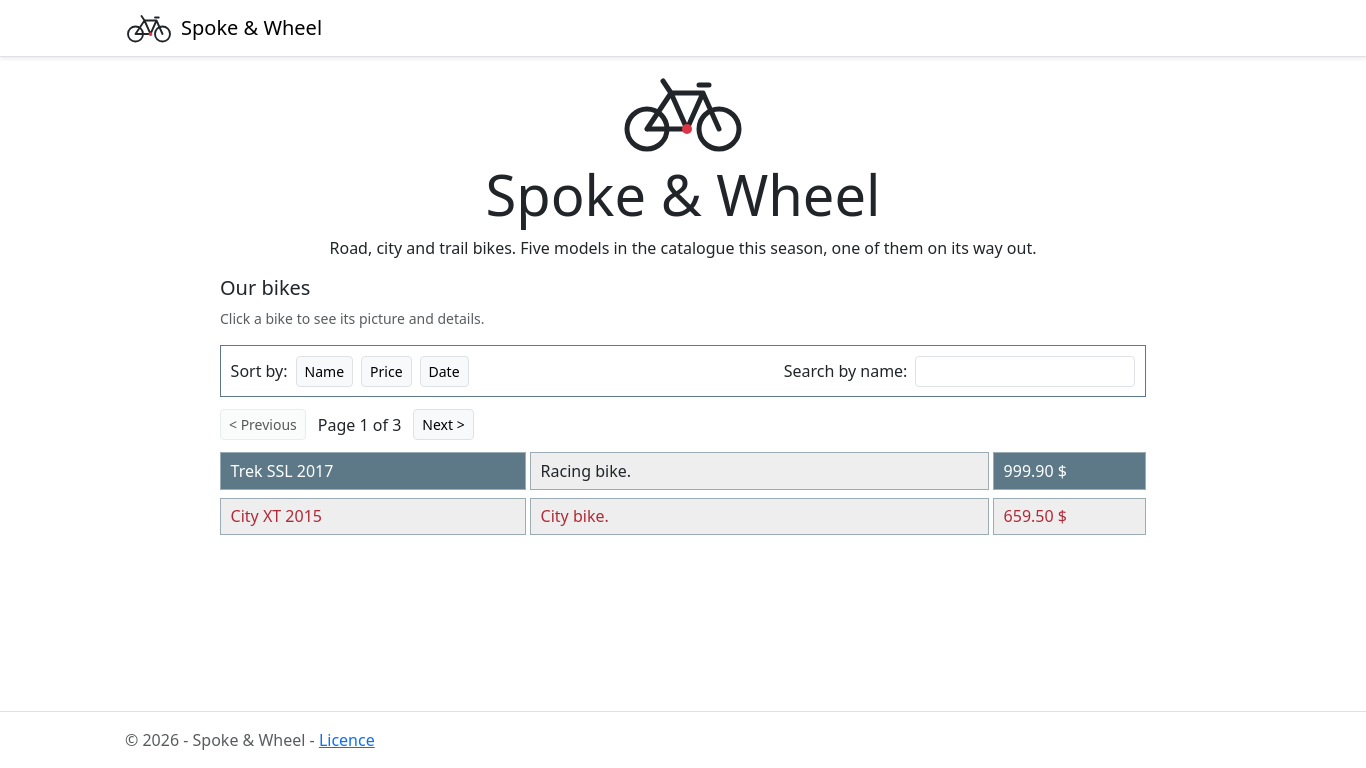
Test: App › hands the catalogue to the list and shows the detail of the bike clicked
Check: the heading "Spoke & Wheel" is shown, box [486,156,880,232]
Step 1. Click the button with test id "product" that starts with "City XT 2015" → point(683, 516), box [220,498,1146,535]
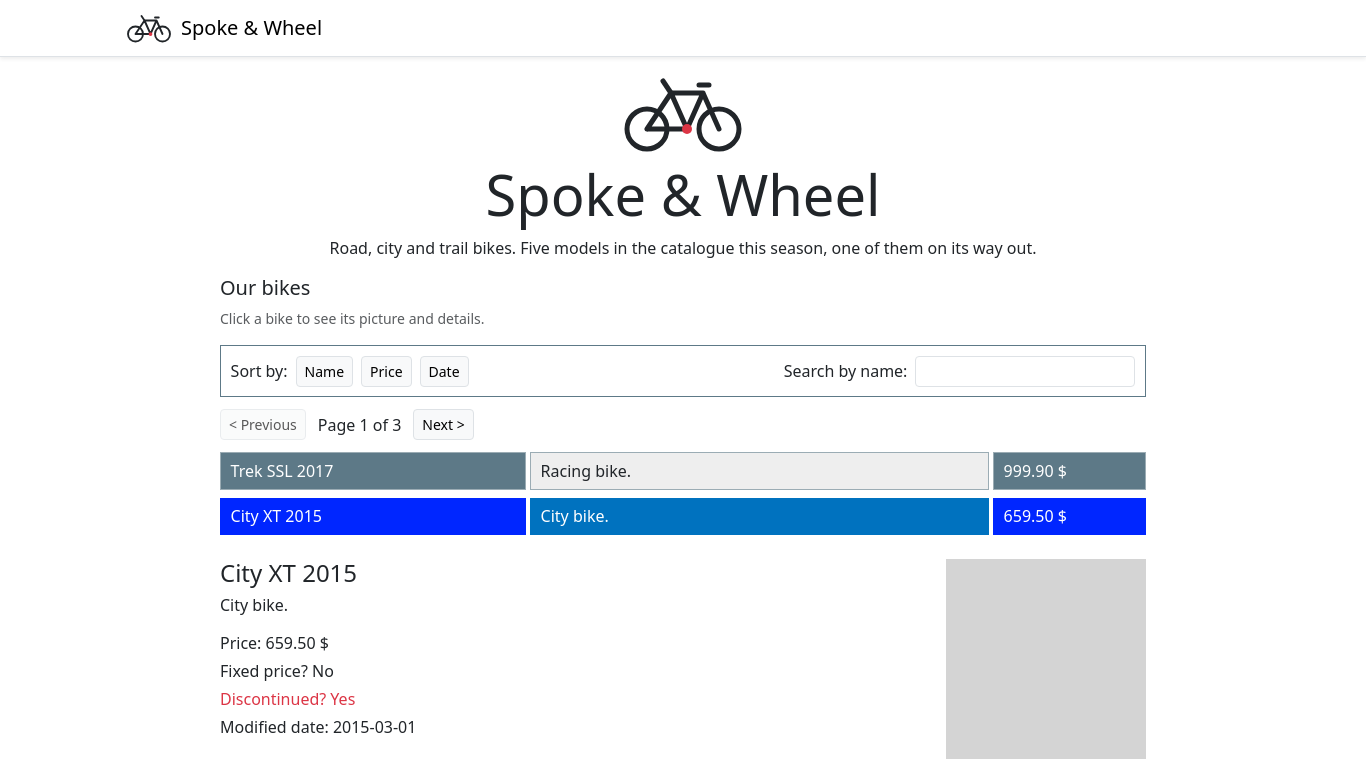
Check: the heading with test id "detail-name" reads "City XT 2015", box [220,556,357,589]
